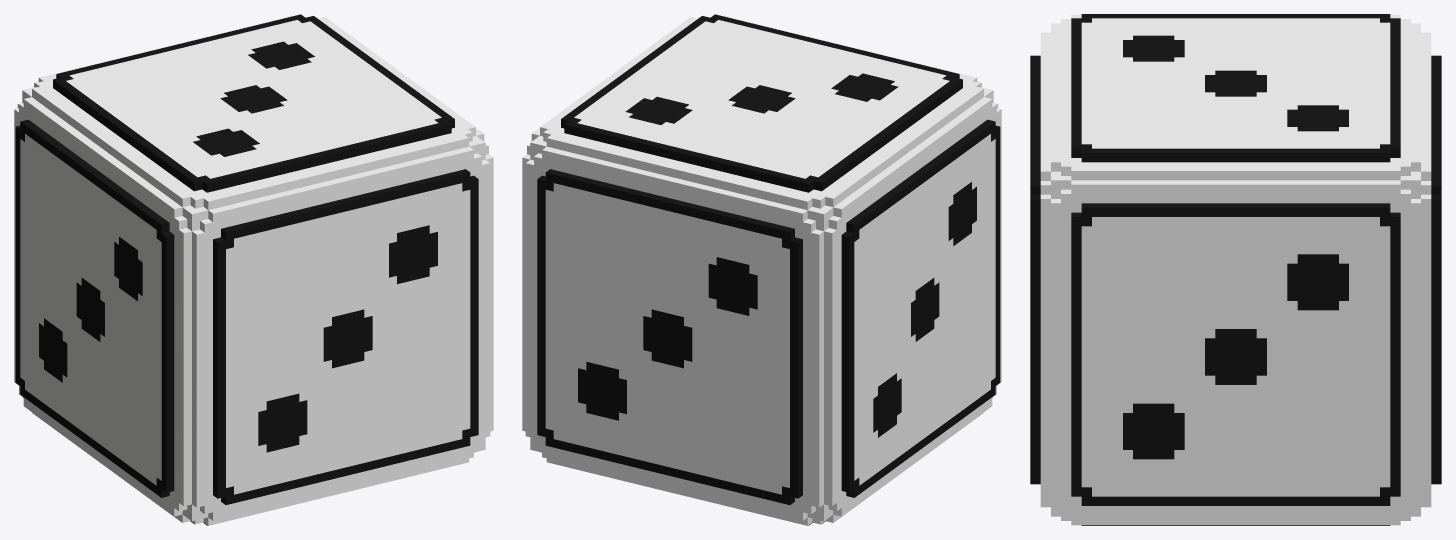
The model's file is Dicemob3.obj.
3 views of the same model, side by side, from view 1: azimuth 30°, elevation 25°; view 2: azimuth 150°, elevation 25°; view 3: azimuth 270°, elevation 25° (orthographic). The views are drawn at different scales.
Size of the model in its own units: 4 by 4 by 4.
